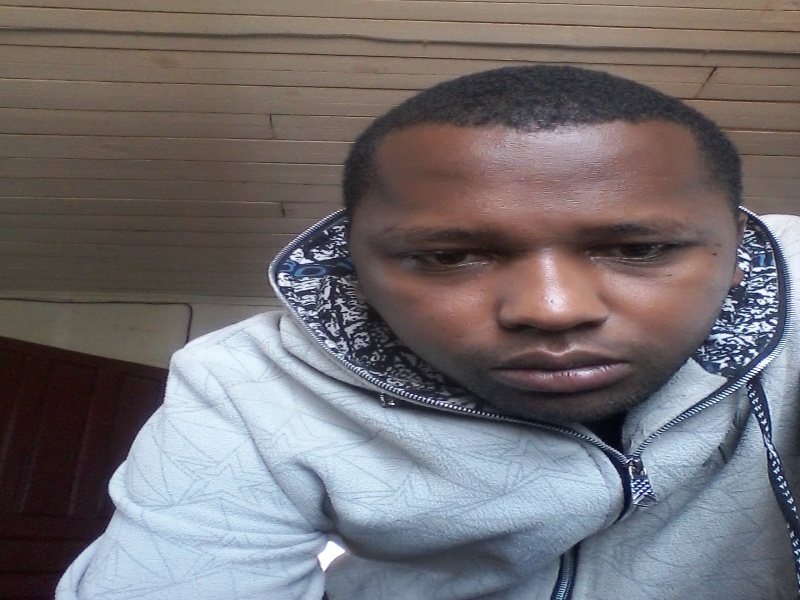TsisyArotava: (319, 51, 765, 460)
